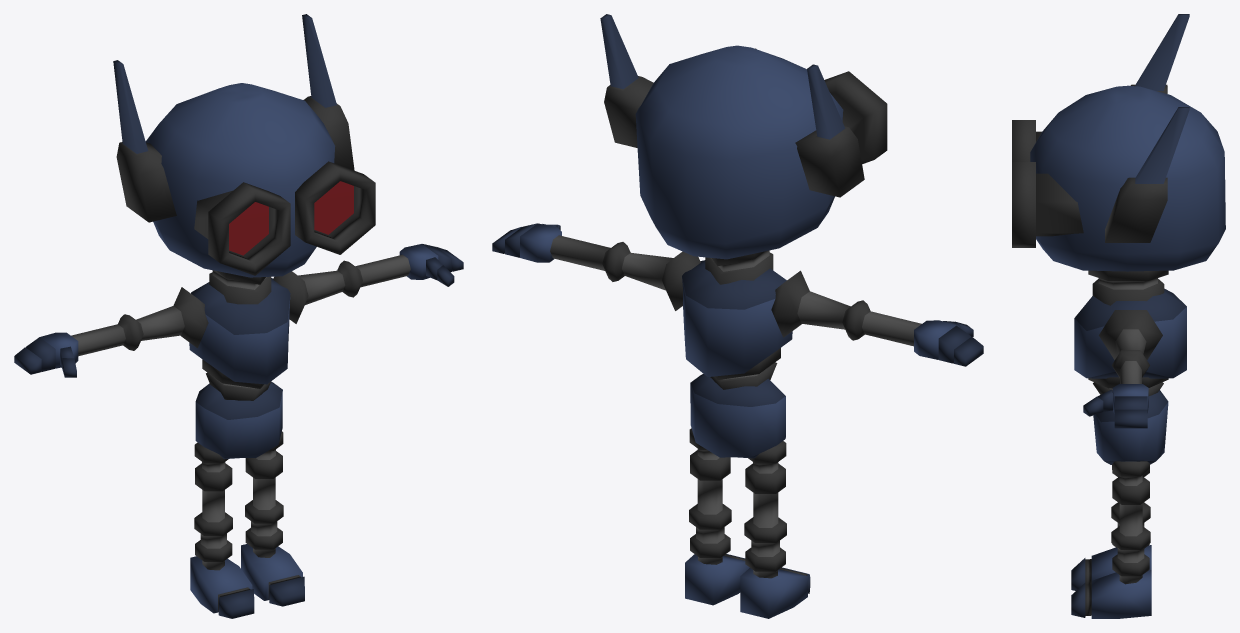
File: MainCharacter.fbx
The picture shows the model from 3 angles, left to right: view 1: azimuth 30°, elevation 25°; view 2: azimuth 150°, elevation 25°; view 3: azimuth 270°, elevation 25°; orthographic projection. The views are drawn at different scales.
Parts seen in each view (by area): view 1: Robot; view 2: Robot; view 3: Robot.
Boxes of the visible parts, bbox=[...] form: Robot: bbox=[14, 14, 463, 618]; Robot: bbox=[492, 14, 983, 618]; Robot: bbox=[1012, 14, 1225, 618].
Bounding box in the file's own units: 1.07 × 2.97 × 2.54.
